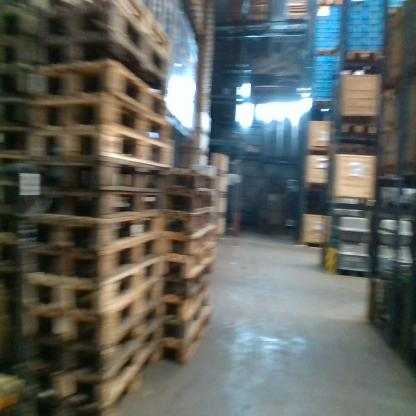pallet: (20, 323, 164, 409), (19, 295, 165, 379), (21, 250, 169, 319), (39, 7, 169, 81), (23, 279, 170, 340), (43, 37, 166, 103), (39, 60, 169, 117), (23, 235, 166, 284), (17, 211, 165, 253), (36, 94, 168, 141), (25, 185, 162, 229), (49, 125, 167, 171), (34, 154, 161, 190), (166, 316, 213, 367), (164, 272, 214, 314), (164, 236, 214, 275), (3, 58, 44, 103), (168, 298, 217, 333), (165, 262, 213, 295), (168, 205, 213, 236), (3, 130, 49, 160), (3, 100, 46, 130), (166, 227, 219, 251), (168, 167, 220, 191), (168, 191, 213, 212), (345, 50, 386, 64), (339, 120, 379, 134)
pallet_truck: (2, 137, 60, 412)
